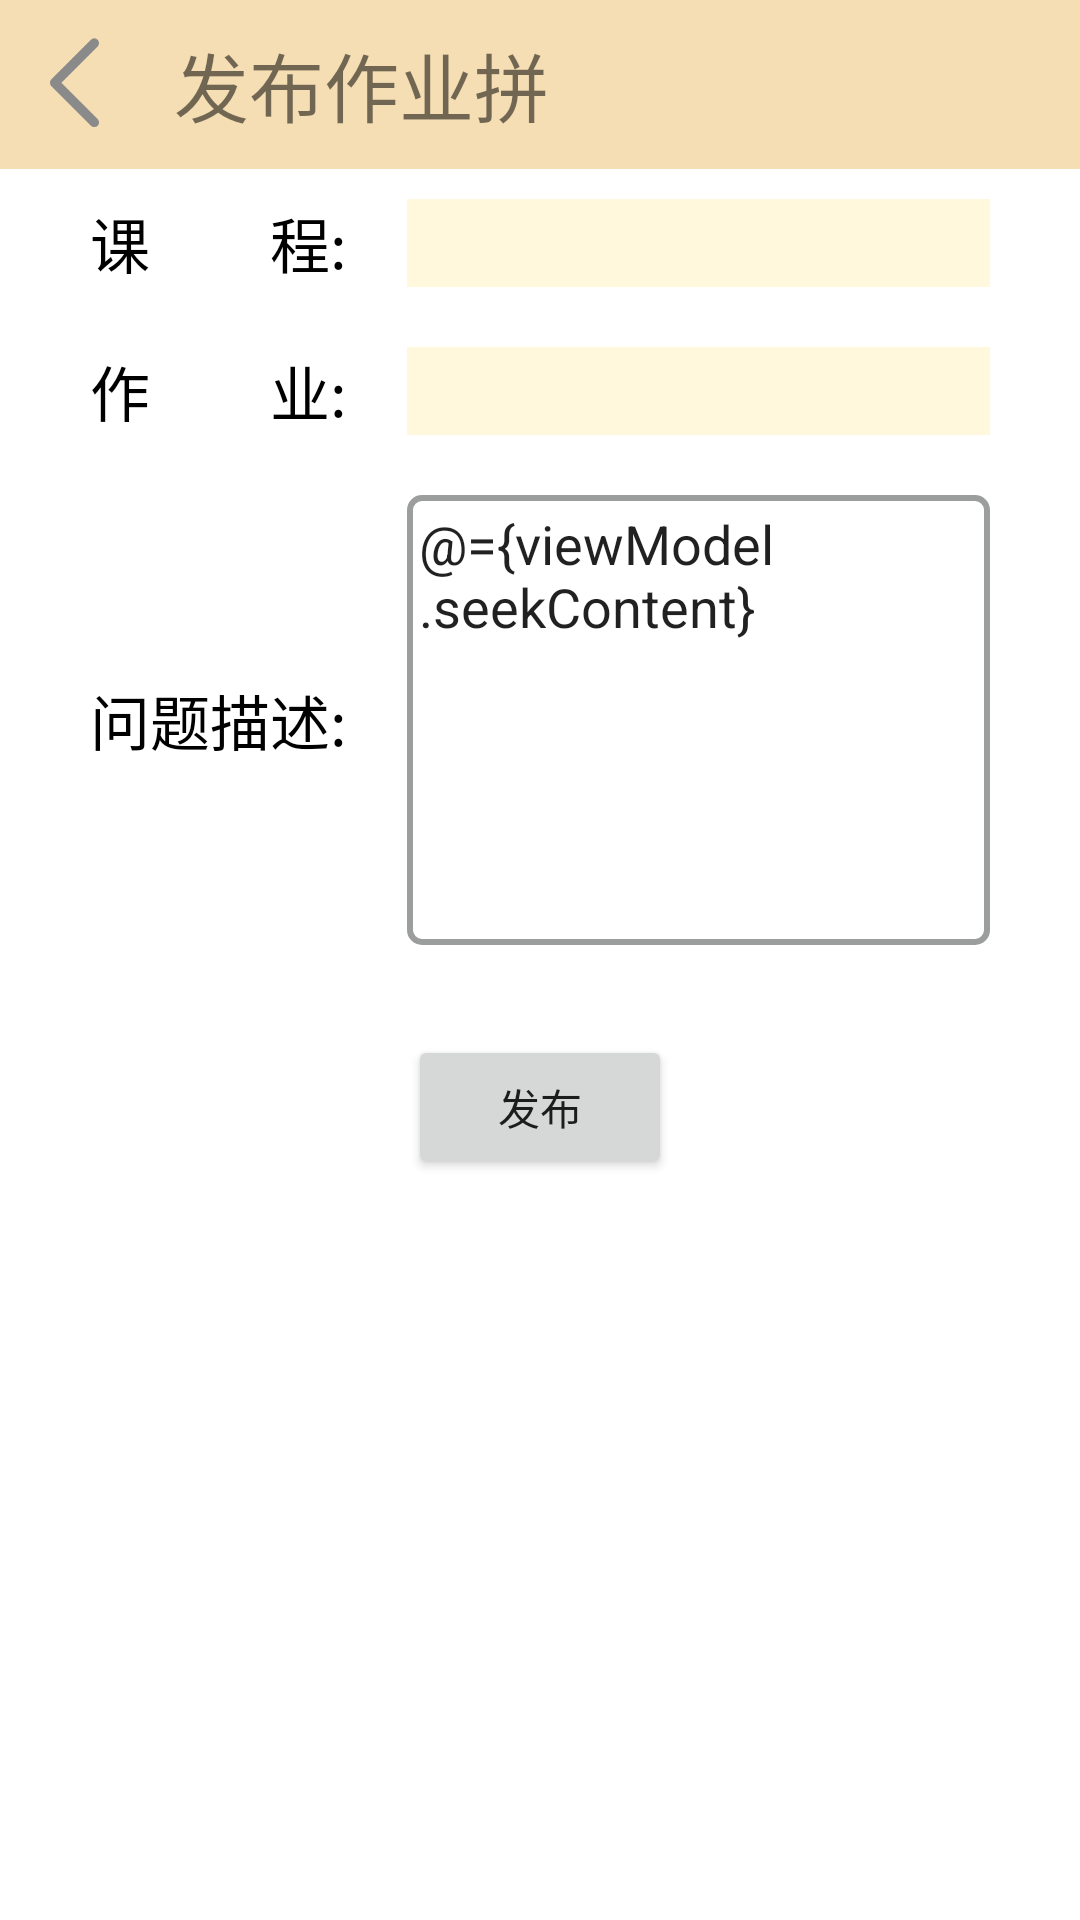

Where to tap for icons on this 1080×1920 app screen, as [x,y]:
back: [74,82]
